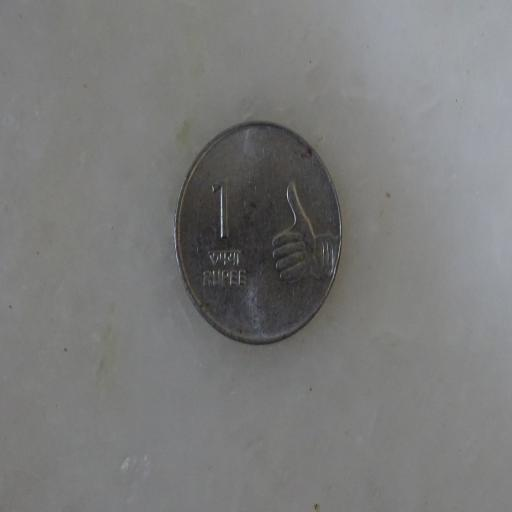rupee1: (168, 120, 343, 349)
